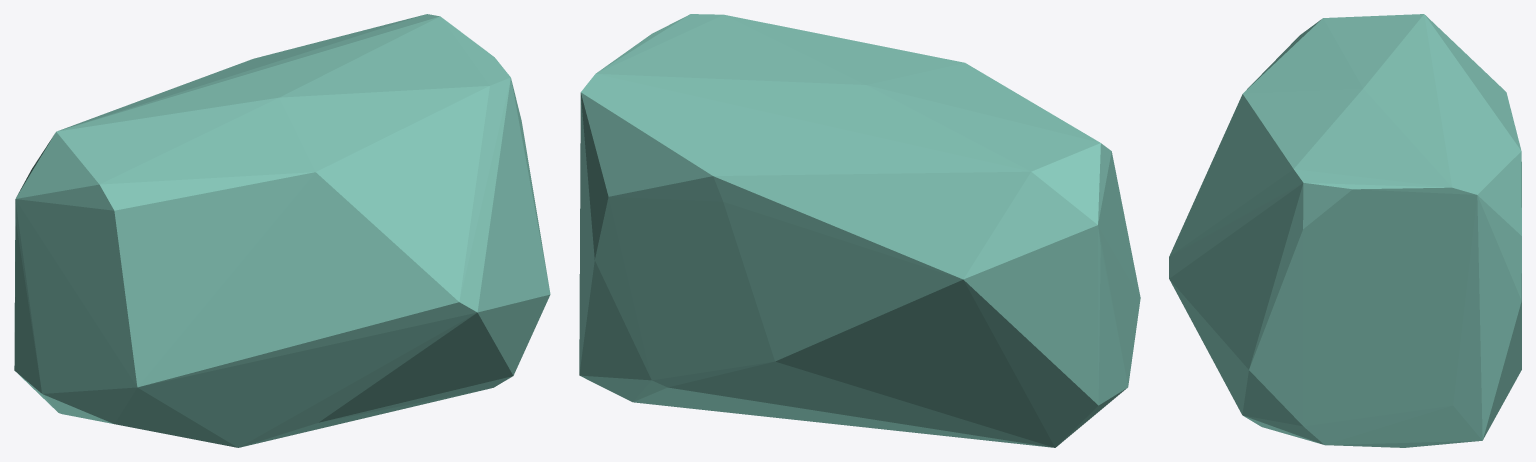
File: airSystem_compressor_b01.glb
3 renders of one model, left to right at view 1: azimuth 30°, elevation 25°; view 2: azimuth 150°, elevation 25°; view 3: azimuth 270°, elevation 25°, orthographic. The views are drawn at different scales.
Parts seen in each view (by area): view 1: geometry_0; view 2: geometry_0; view 3: geometry_0.
Part boxes in pixels (bbox=[...]): geometry_0: bbox=[14, 14, 550, 447]; geometry_0: bbox=[579, 14, 1140, 447]; geometry_0: bbox=[1169, 14, 1521, 447].
Size of the model in its own units: 0.48 by 0.2954 by 0.3509.
